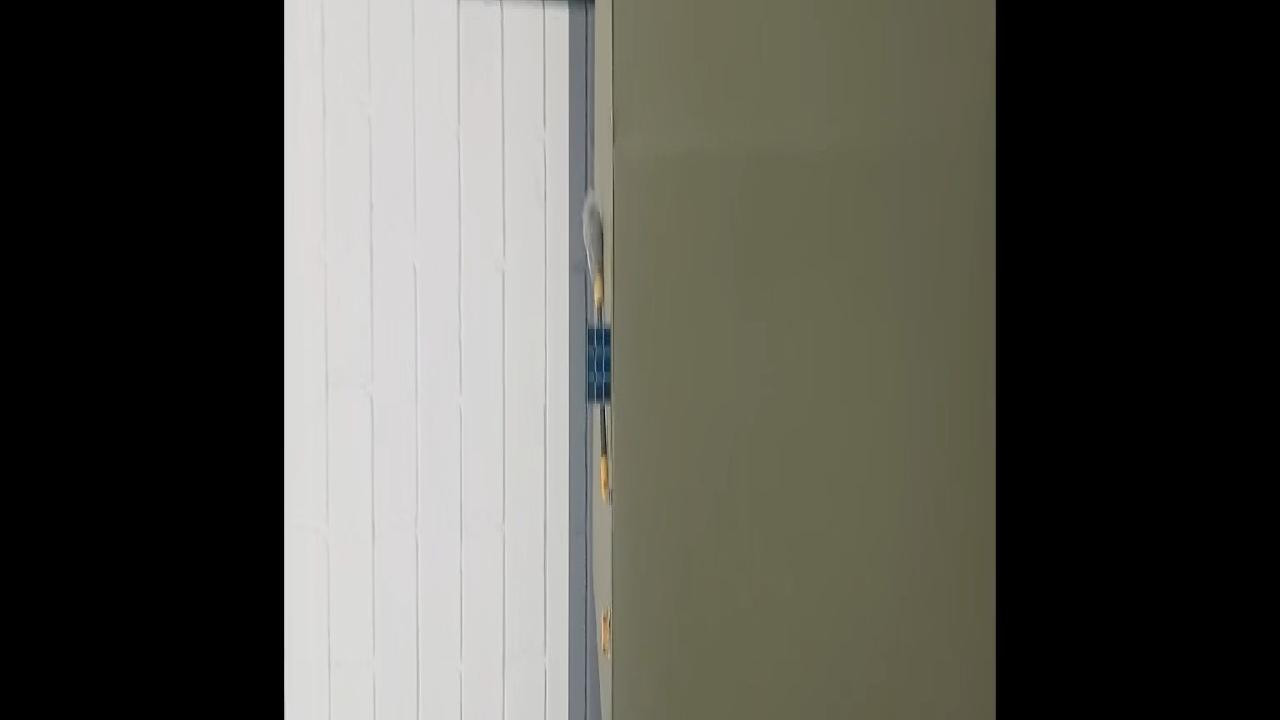Cube: (586, 326, 612, 406)
